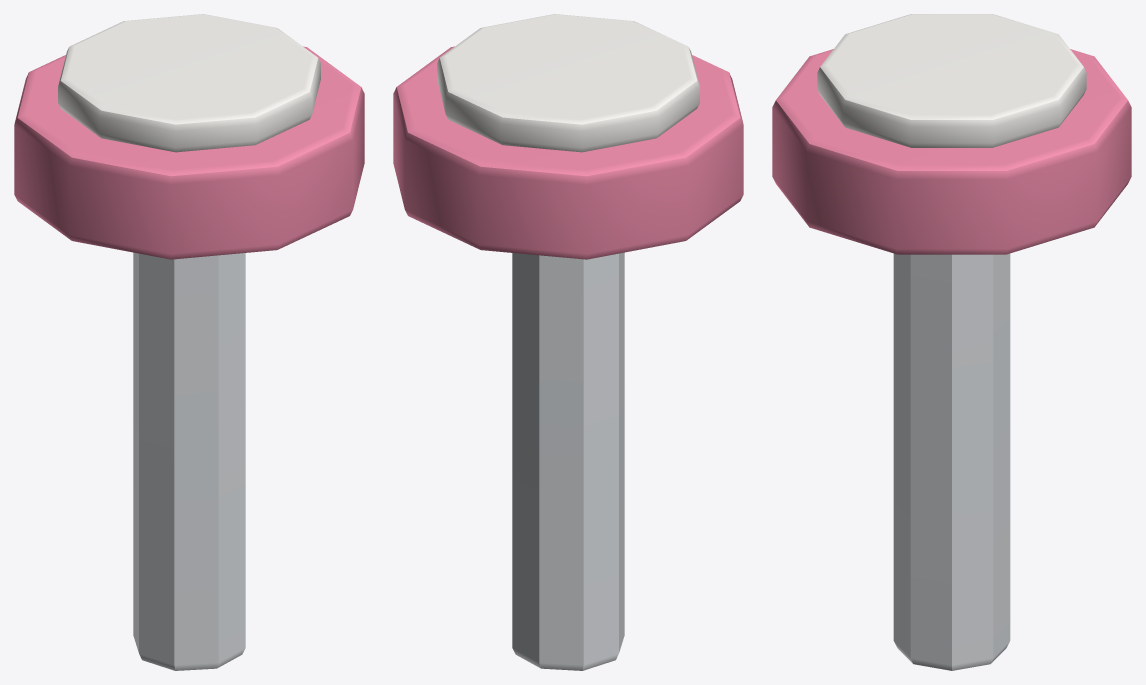
The model's file is ChamberPiston.fbx.
The picture shows the model from 3 angles, left to right: view 1: azimuth 30°, elevation 25°; view 2: azimuth 150°, elevation 25°; view 3: azimuth 270°, elevation 25°; orthographic projection.
Parts seen in each view (by area): view 1: ChamberPiston; view 2: ChamberPiston; view 3: ChamberPiston.
Boxes of the visible parts, box(x1,y1,x2,y2) form: ChamberPiston: box(14, 14, 364, 670); ChamberPiston: box(393, 14, 743, 670); ChamberPiston: box(772, 14, 1131, 670).
Size of the model in its own units: 0.7608 by 1.44 by 0.8.
